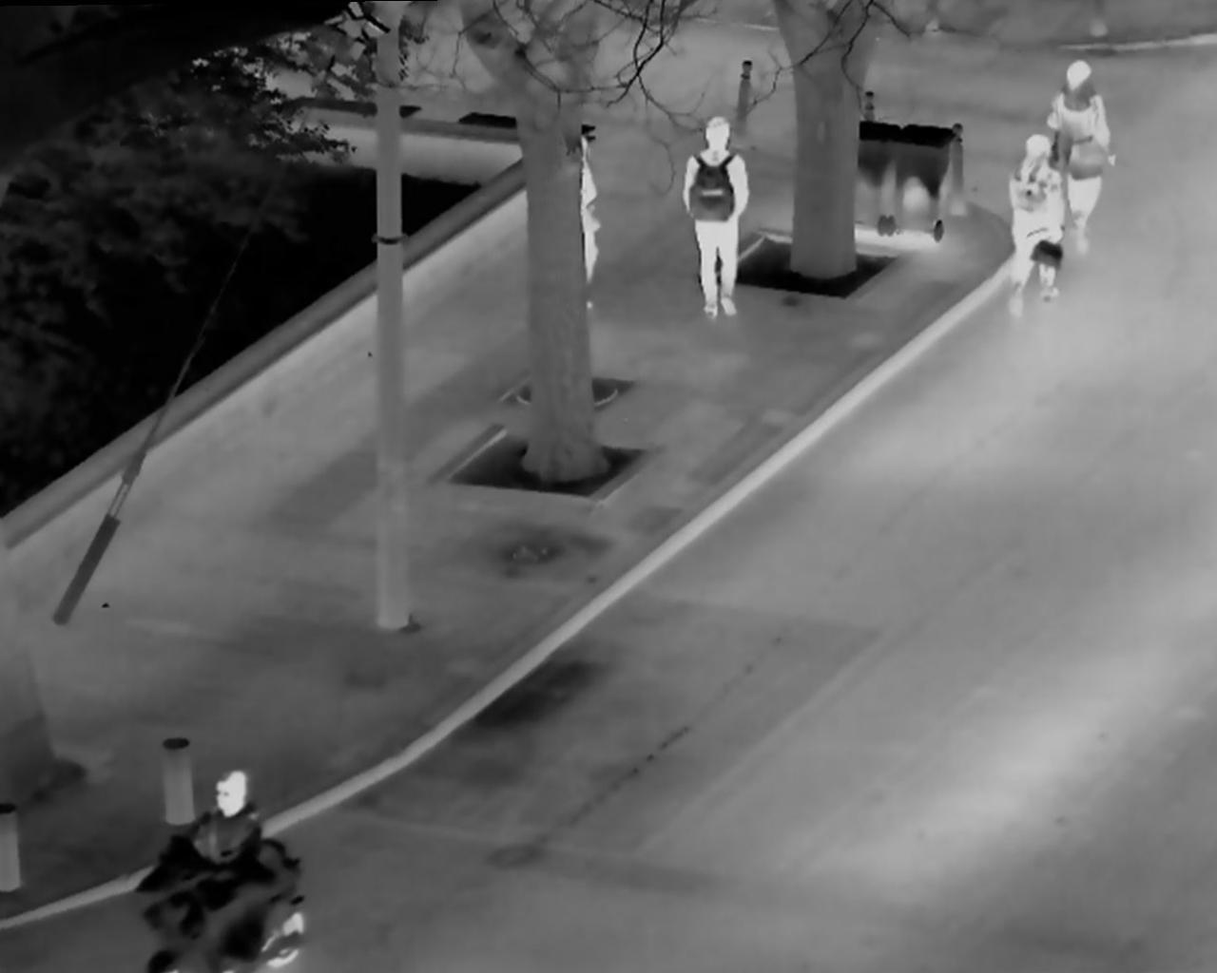person: (161, 760, 292, 944), (672, 104, 765, 333), (989, 118, 1076, 327), (1045, 45, 1120, 275)
